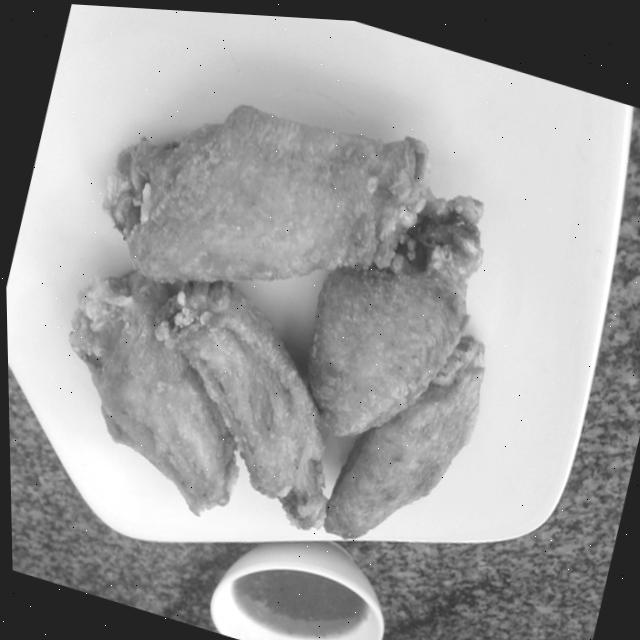鸡肉料理 含炸鸡: (38, 69, 523, 577)
